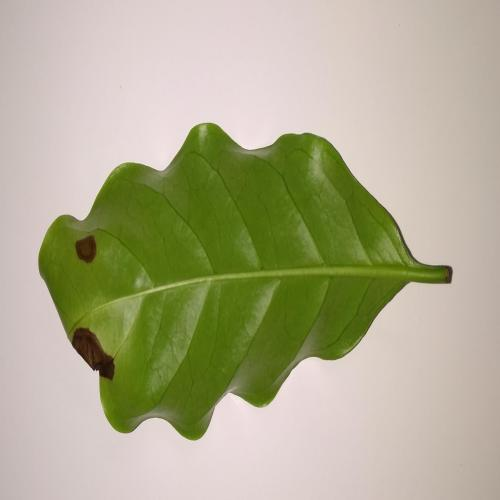miner: (75, 236, 96, 263)
